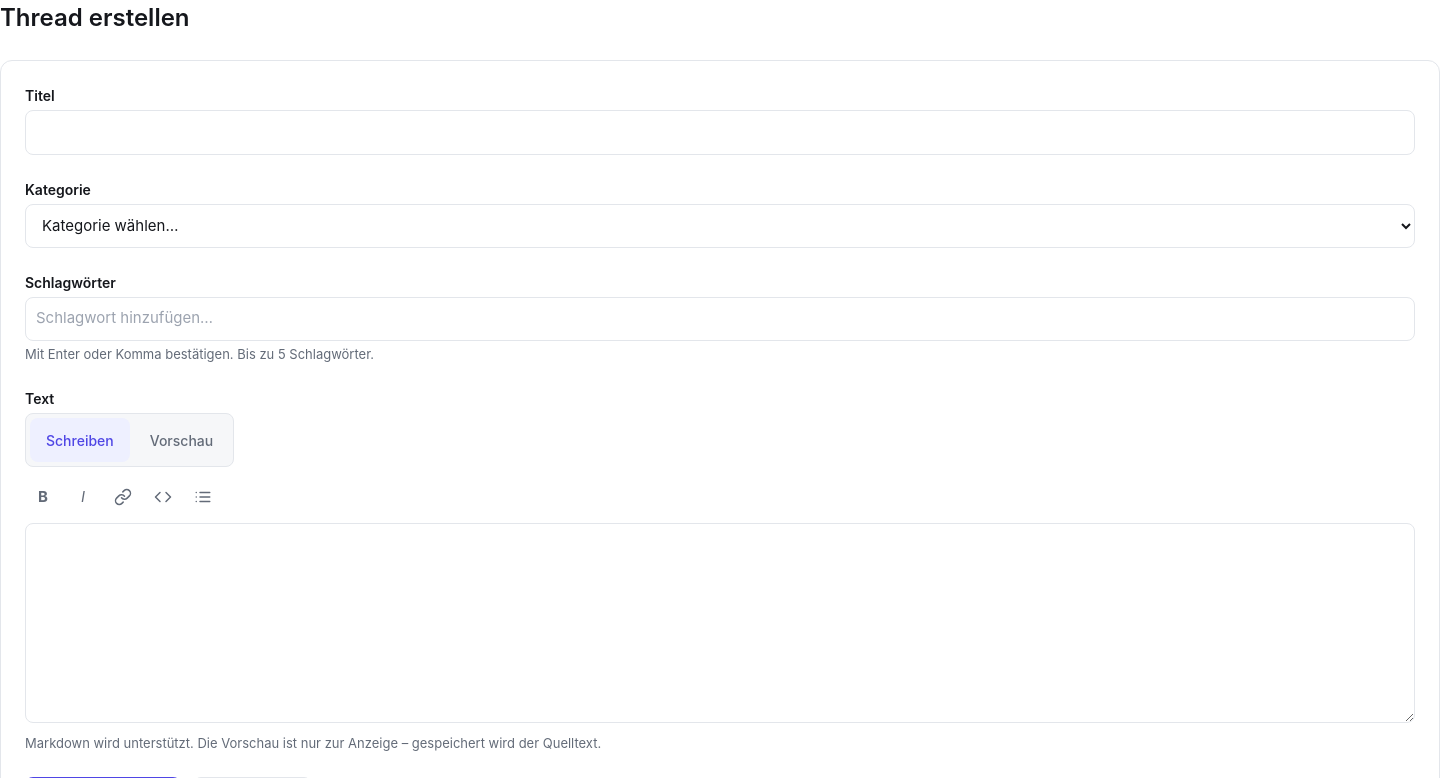
Scenario: ThreadEditorPage › updates the live preview while typing
The image size is (1440, 778).
In the text box named "Markdown-Text": (720,623) [25, 523, 1415, 723], type "# Überschrift"
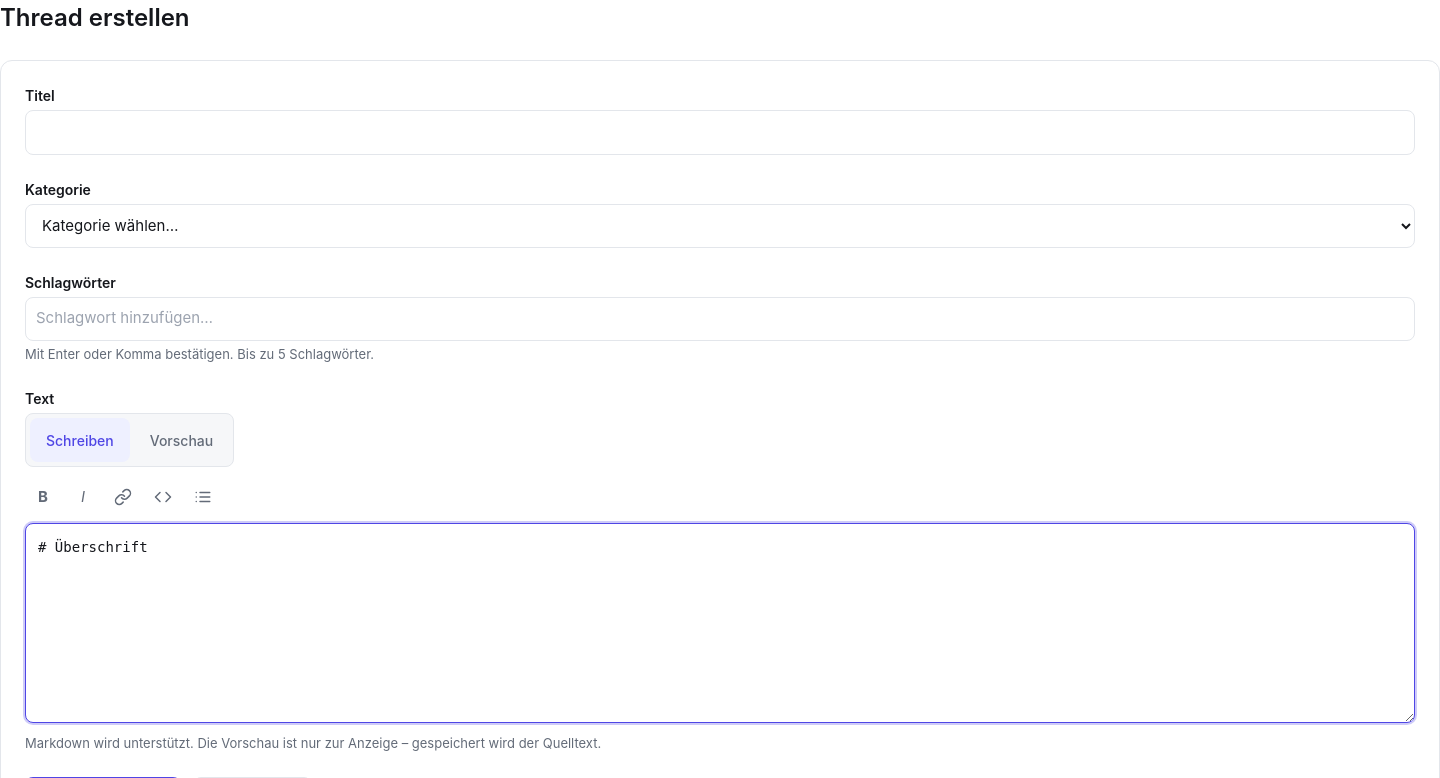
Click the tab "Vorschau": (182,440) [134, 418, 229, 462]
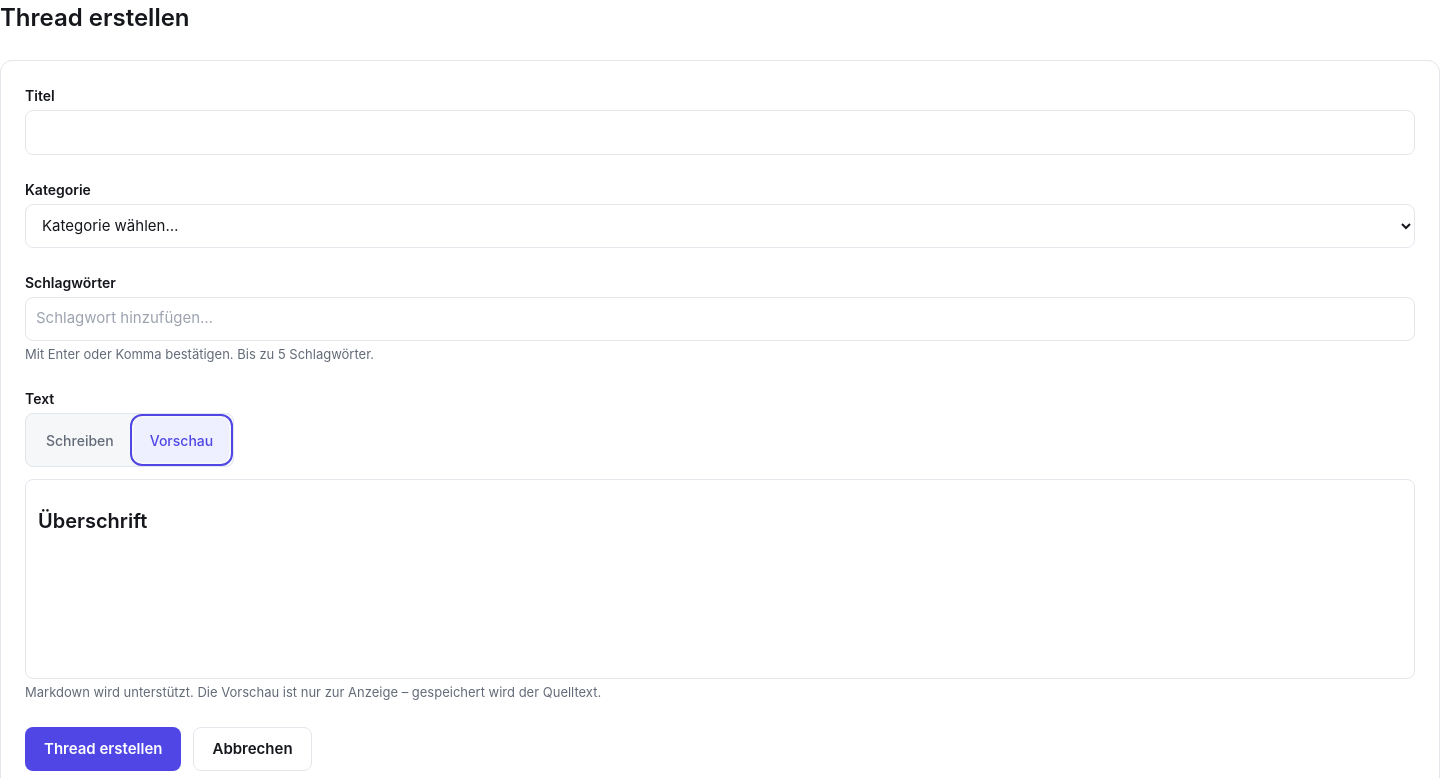
Now the heading "Überschrift" is shown, box [38, 509, 147, 533]
Click the tab "Schreiben": (80,440) [30, 418, 130, 462]
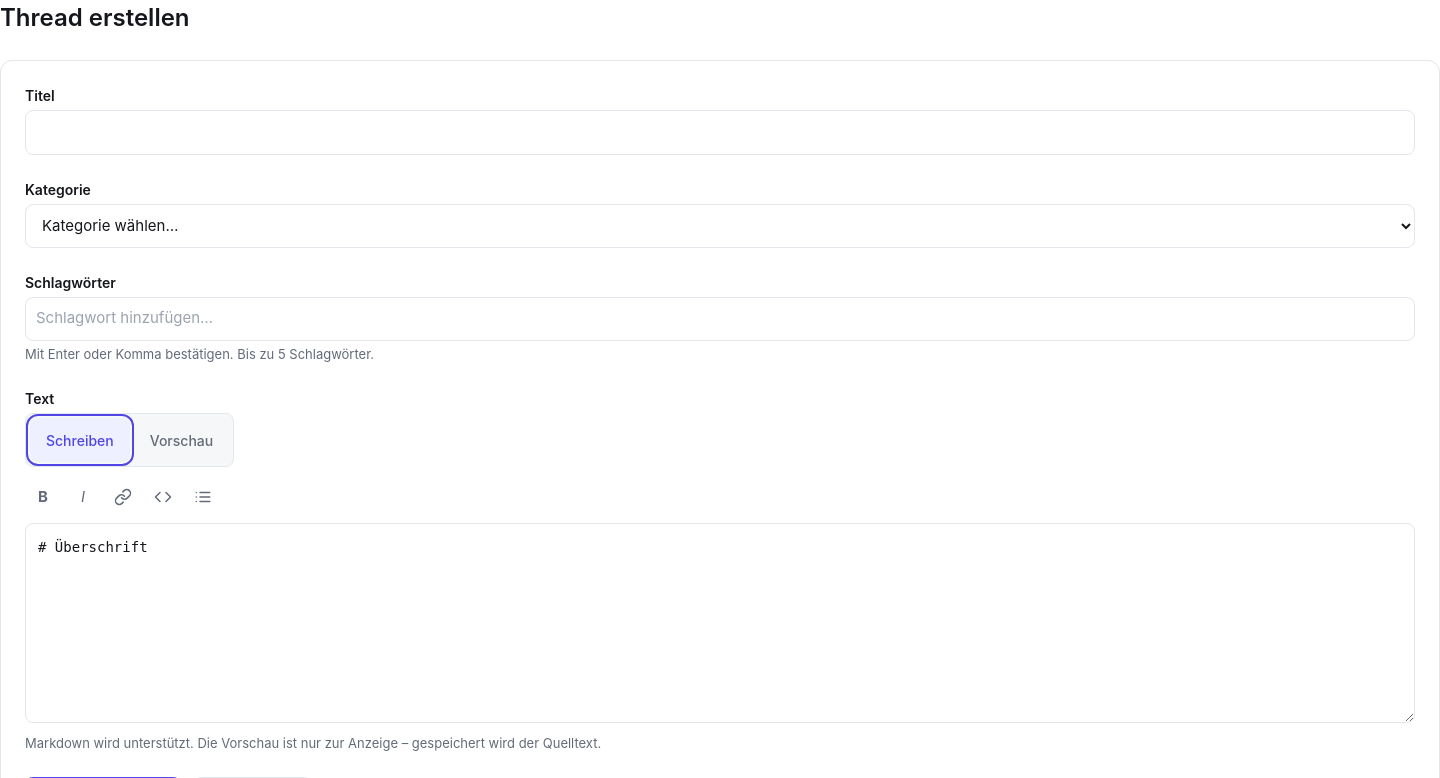
Replace the text in the text box named "Markdown-Text" with "`code`": (720,623) [25, 523, 1415, 723]
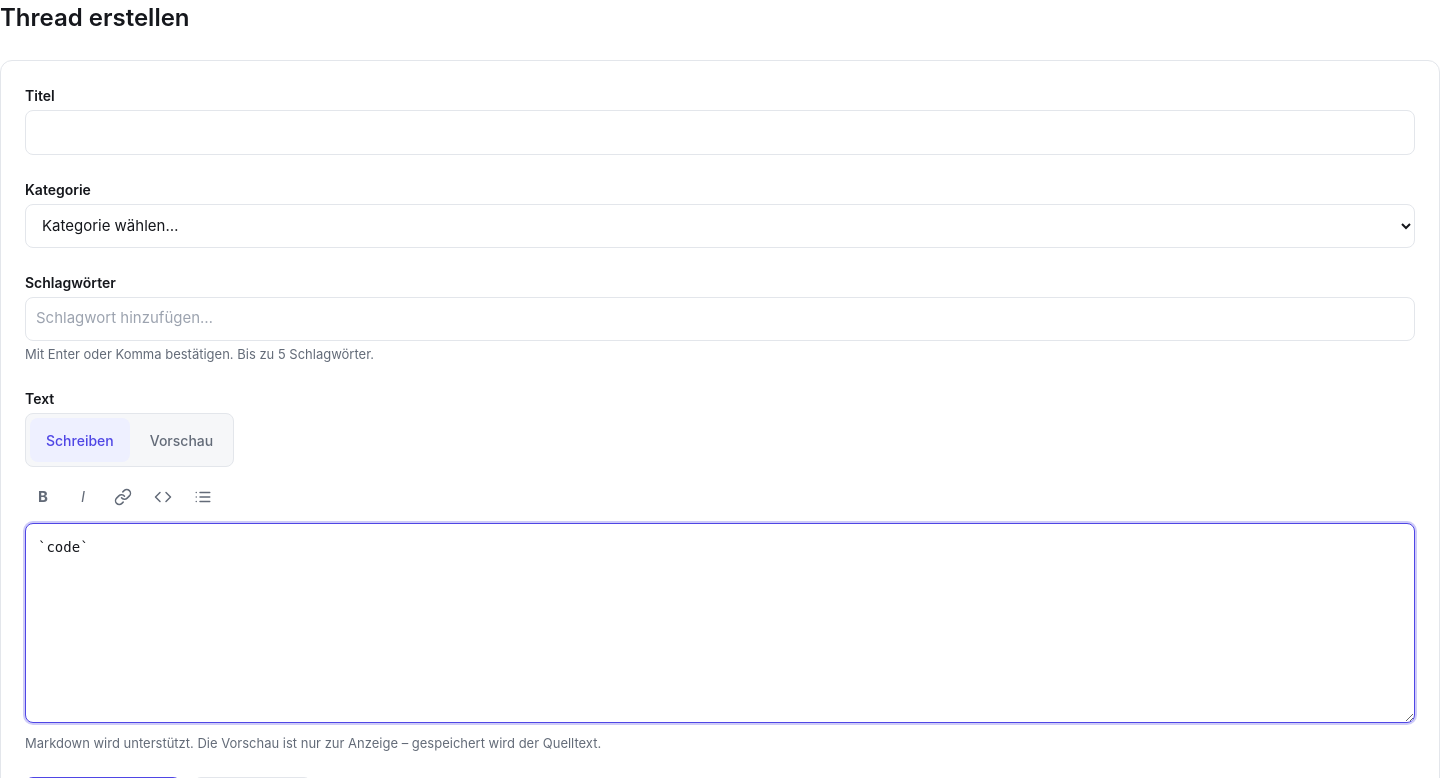
Click the tab "Vorschau": (182,440) [134, 418, 229, 462]
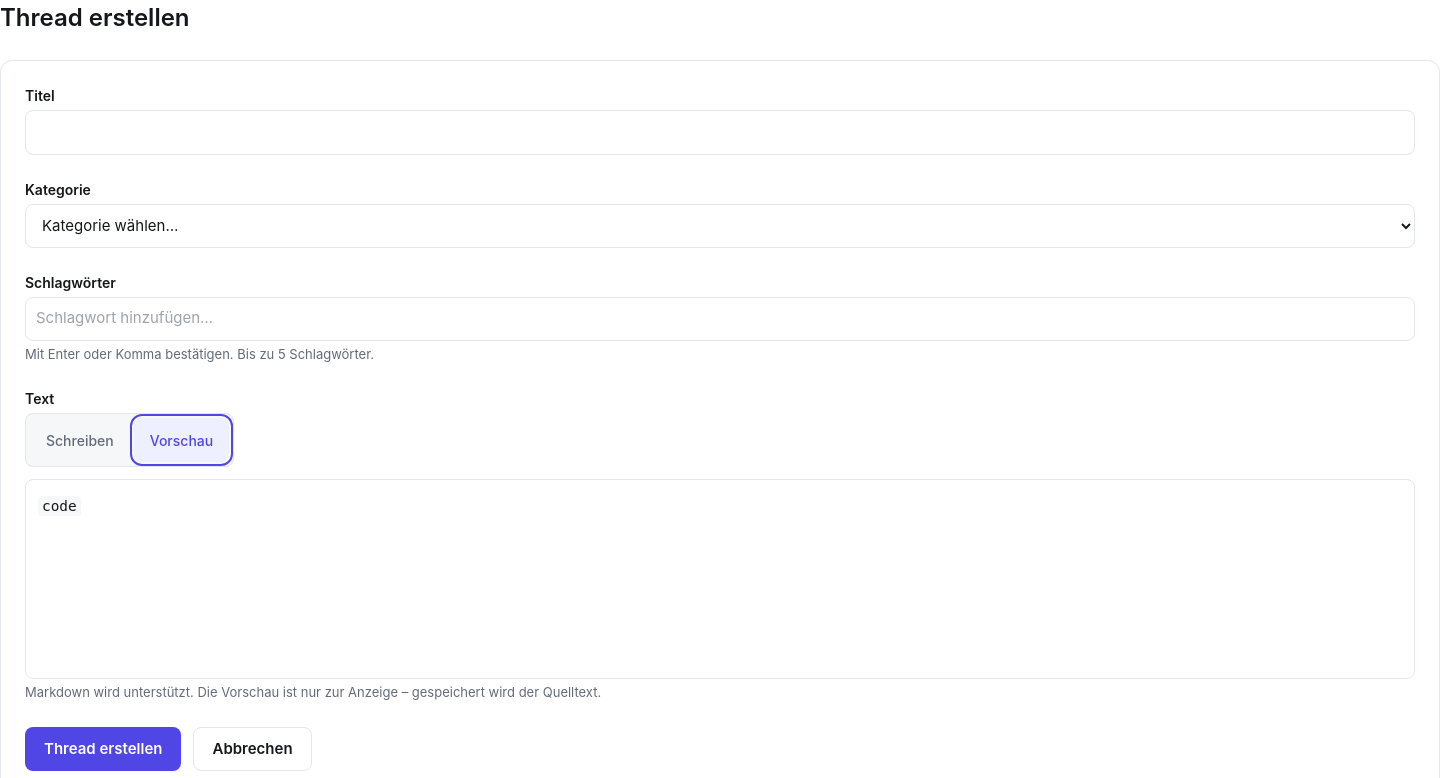
Now the text "code" is shown, box [38, 496, 81, 516]
